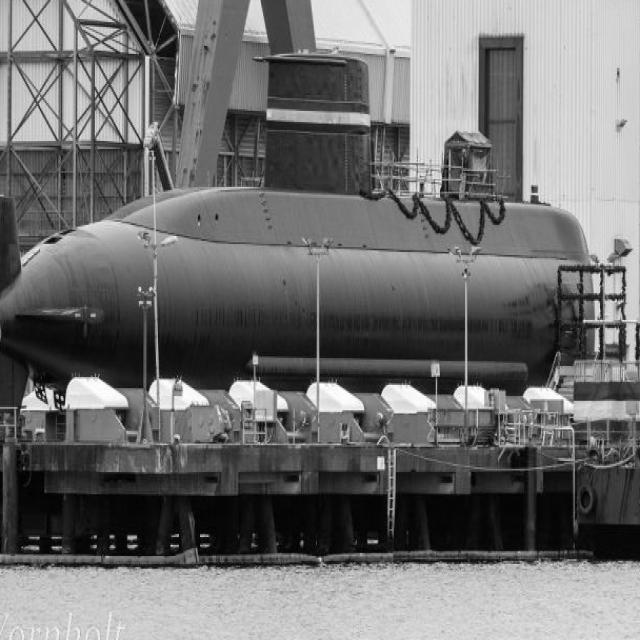submarine: (1, 52, 602, 422)
